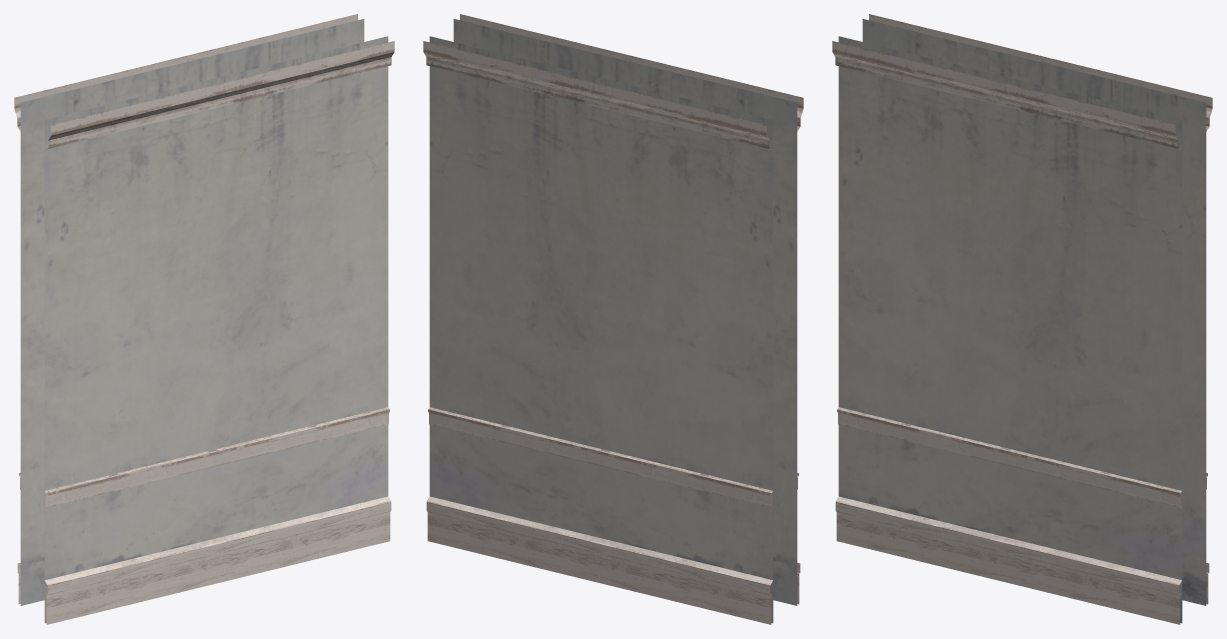
File: wall_horizontal.fbx
3 views of the same model, side by side, from view 1: azimuth 30°, elevation 25°; view 2: azimuth 150°, elevation 25°; view 3: azimuth 330°, elevation 25° (orthographic).
Parts seen in each view (by area): view 1: wall, molding; view 2: wall, molding; view 3: wall, molding.
Boxes of the visible parts, box(x1,y1,x2,y2) form: wall: box(20, 19, 388, 623); molding: box(14, 14, 394, 624); wall: box(429, 19, 797, 623); molding: box(423, 14, 803, 624); wall: box(838, 19, 1206, 623); molding: box(832, 14, 1212, 624).
Size of the model in its own units: 2.5 by 3.5 by 0.4632.
